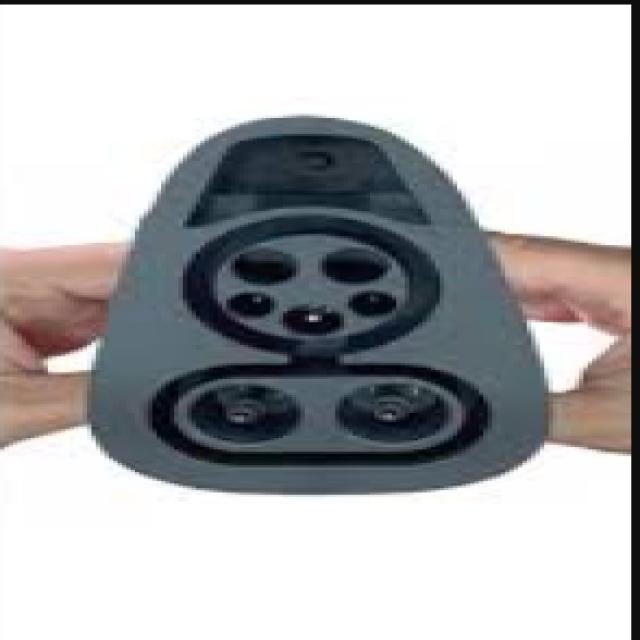CCS1: (54, 117, 585, 573)
